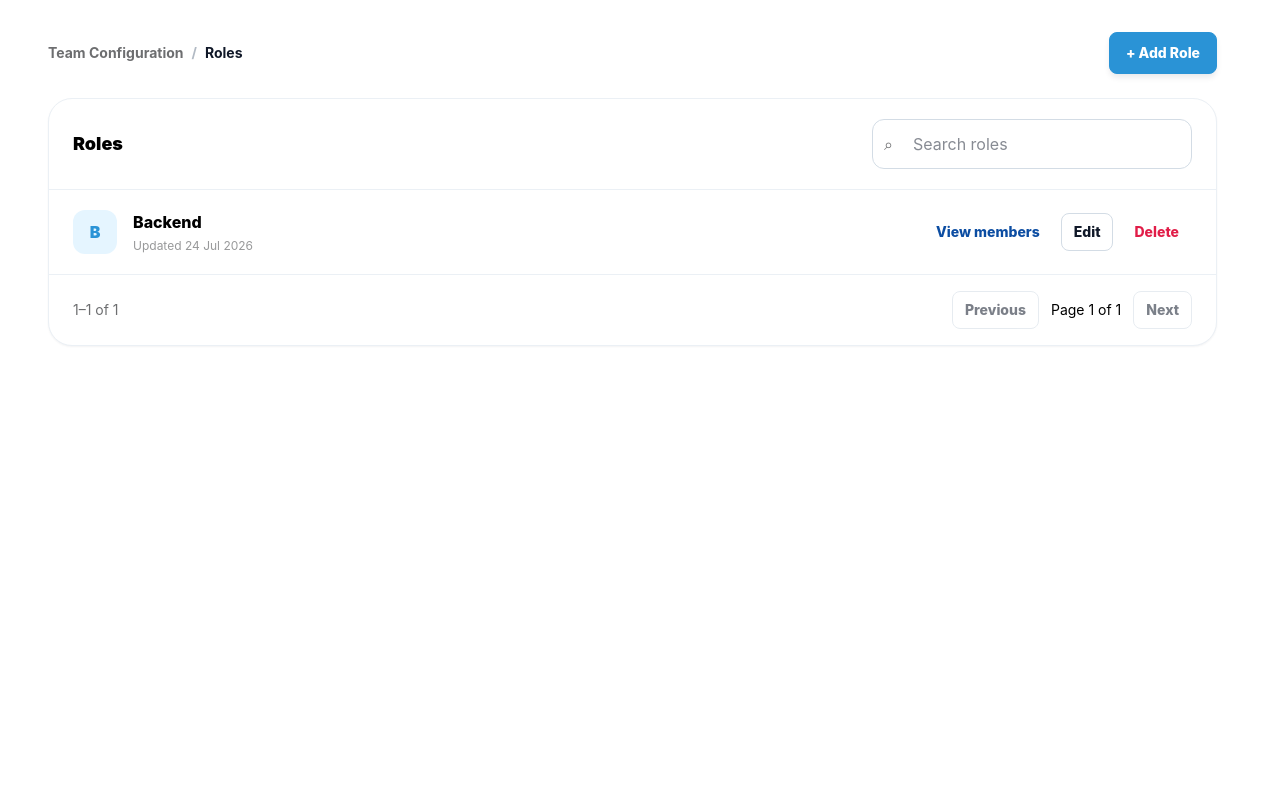
Scenario: RolesDashboardPage › reports Task usage separately from Member usage when deletion is blocked
The width and height of the screenshot is (1280, 800).
What coordinates should you click on to do the following:
click the button with aria-label "Delete Backend"
I would click on:
 (1157, 232)
Its box is [1122,213,1192,251].
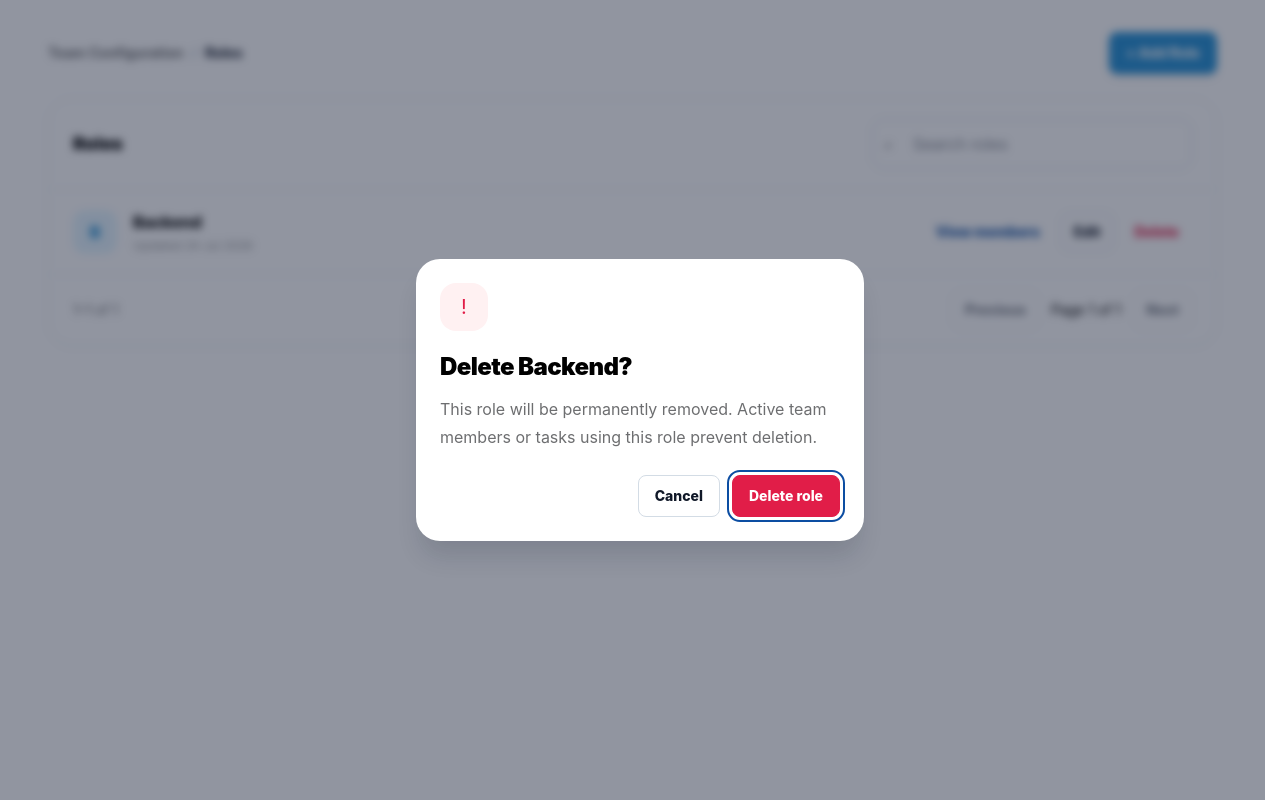
What coordinates should you click on to do the following:
click the button "Delete role"
I would click on:
 (786, 496)
Its box is [732,475,840,517].
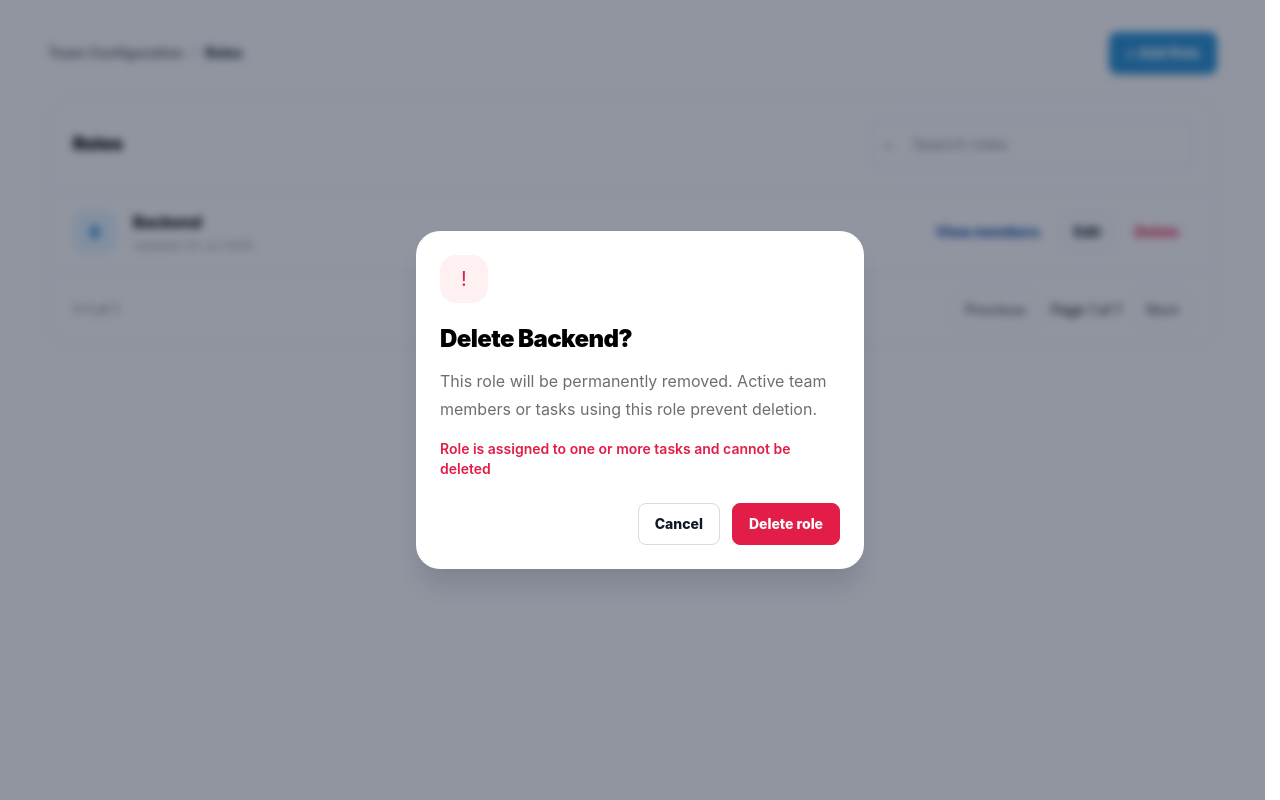
Expected: the text "Role is assigned to one or more tasks and cannot be deleted" is shown, [440,439,840,479]
